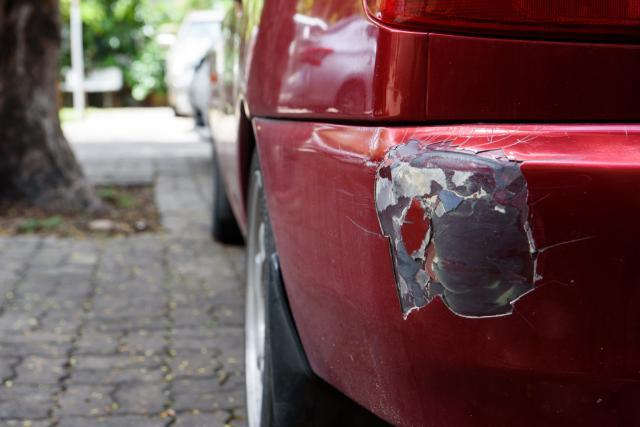scratch: (368, 132, 552, 328)
